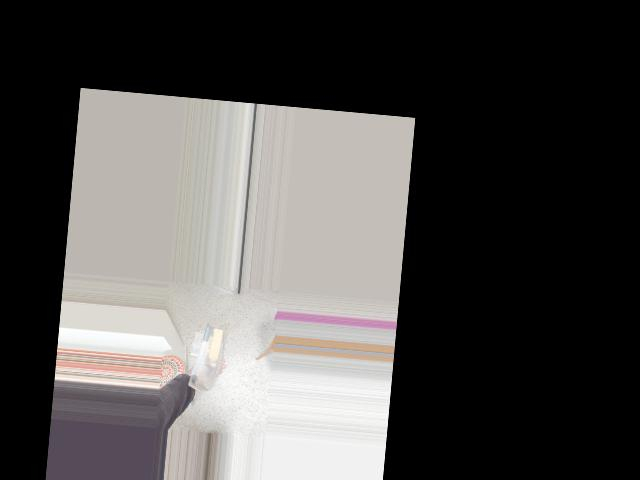cheese: (185, 323, 227, 395)
